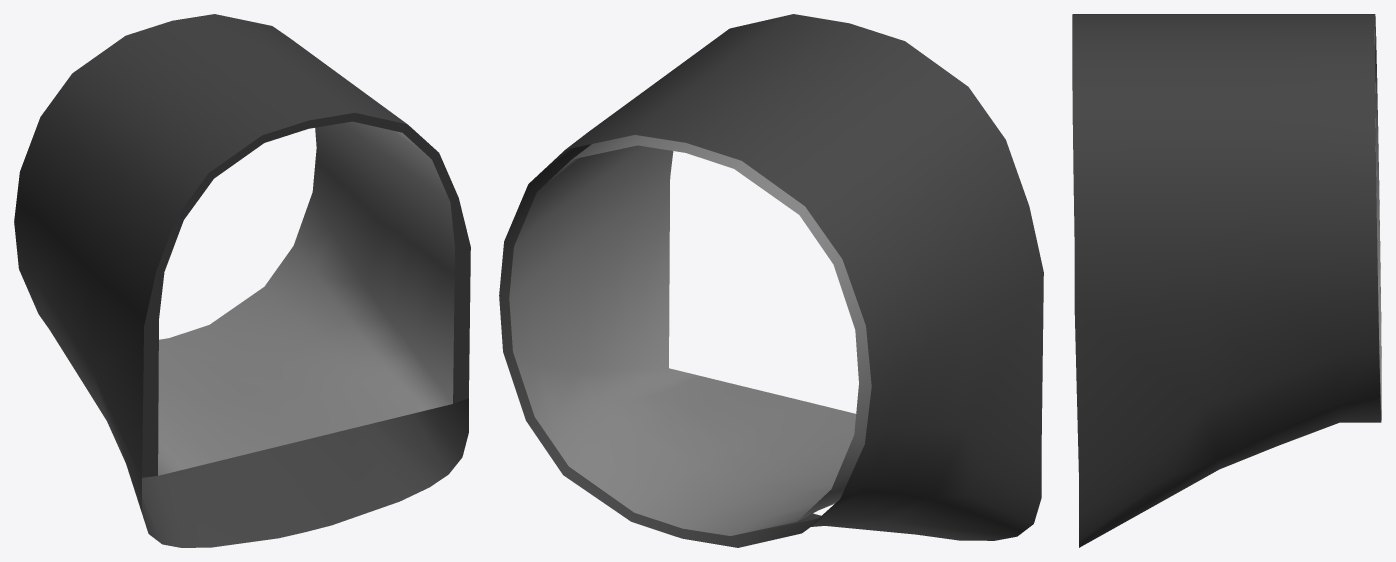
File: Japan_Road_Tunnel_Exit.FBX
The picture shows the model from 3 angles, left to right: view 1: azimuth 30°, elevation 25°; view 2: azimuth 150°, elevation 25°; view 3: azimuth 270°, elevation 25°; orthographic projection. The views are drawn at different scales.
Parts seen in each view (by area): view 1: Object038; view 2: Object038; view 3: Object038.
Boxes of the visible parts, x1,y1,x2,y2 form: Object038: [14, 14, 470, 547]; Object038: [499, 14, 1043, 547]; Object038: [1072, 14, 1381, 547].
Size of the model in its own units: 563 by 681 by 416.
